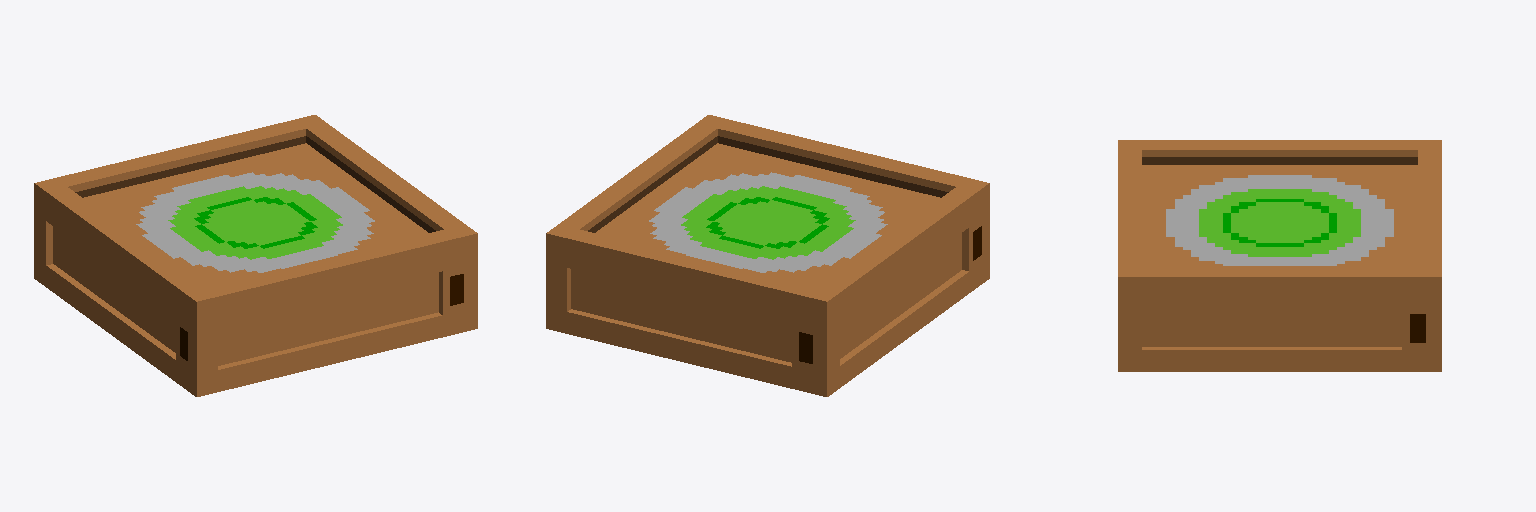
3 views of the same model, side by side, from view 1: azimuth 30°, elevation 25°; view 2: azimuth 150°, elevation 25°; view 3: azimuth 270°, elevation 25° (orthographic).
Visible parts, largest first — view 1: object 1; view 2: object 1; view 3: object 1.
Boxes of the visible parts, x1,y1,x2,y2 form: object 1: [34, 115, 477, 396]; object 1: [546, 115, 989, 396]; object 1: [1118, 140, 1441, 371].
Size of the model in its own units: 4 by 1.3 by 4.
1 materials, 1 textured.